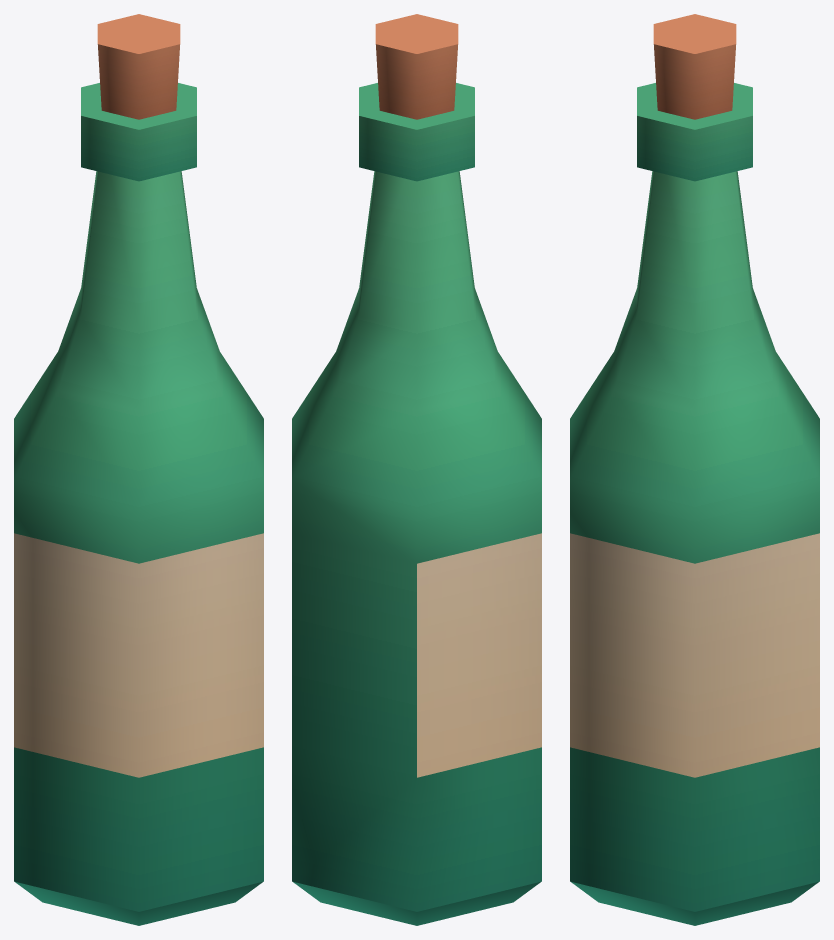
The model's file is wine-white.glb.
3 renders of one model, left to right at view 1: azimuth 30°, elevation 25°; view 2: azimuth 150°, elevation 25°; view 3: azimuth 270°, elevation 25°, orthographic.
Parts seen in each view (by area): view 1: wine-white; view 2: wine-white; view 3: wine-white.
Boxes of the visible parts, x1,y1,x2,y2 form: wine-white: (14,14,263,925); wine-white: (292,14,541,925); wine-white: (570,14,819,925).
Size of the model in its own units: 0.2028 by 0.6556 by 0.1756.
1 material, 1 textured.
